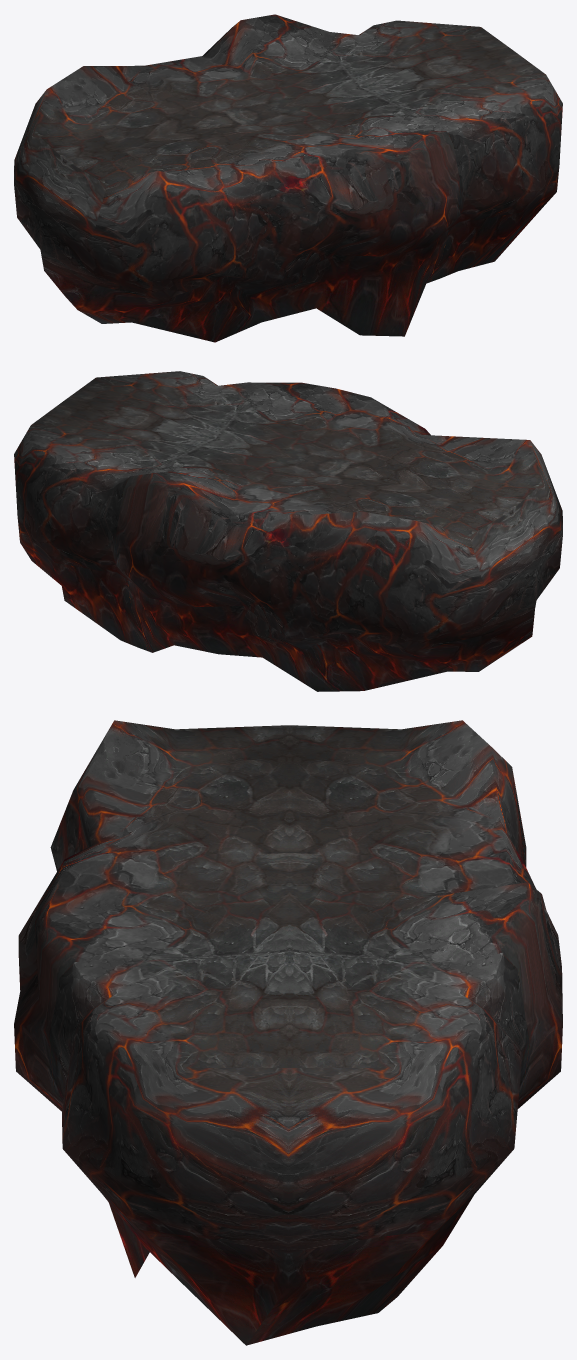
Rendered from 10504_LavaStone08.FBX.
3 views of the same model, one above another, from view 1: azimuth 30°, elevation 25°; view 2: azimuth 150°, elevation 25°; view 3: azimuth 270°, elevation 25° (orthographic). The views are drawn at different scales.
Visible parts, largest first — view 1: 10504_LavaStone08; view 2: 10504_LavaStone08; view 3: 10504_LavaStone08.
Boxes of the visible parts, <box> form: 10504_LavaStone08: <box>14,14,562,342</box>; 10504_LavaStone08: <box>14,371,562,691</box>; 10504_LavaStone08: <box>14,720,562,1345</box>.
Bounding box in the file's own units: 1314 × 598 × 798.
